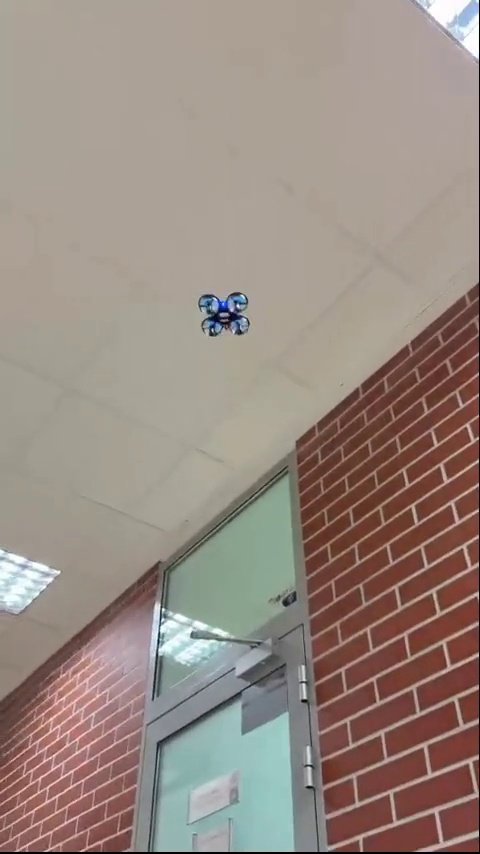drone: (195, 291, 253, 336)
